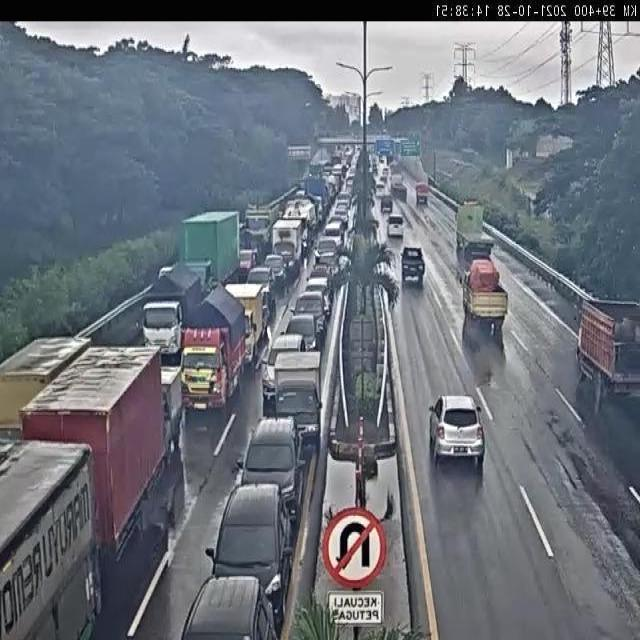Car: (234, 418, 304, 517), (174, 574, 278, 638), (428, 394, 483, 471), (262, 333, 308, 413), (302, 279, 330, 318), (264, 253, 288, 289), (323, 219, 345, 248), (315, 250, 337, 274), (386, 212, 404, 238), (336, 193, 352, 220), (330, 164, 343, 187), (380, 194, 393, 214), (346, 168, 356, 192), (369, 153, 379, 175), (376, 178, 385, 195), (335, 146, 344, 160), (343, 146, 353, 158), (354, 146, 360, 158)
Truck: (34, 346, 174, 512), (575, 300, 640, 413), (178, 308, 238, 410), (182, 203, 239, 287), (143, 260, 194, 352), (463, 266, 510, 342), (455, 204, 496, 256)
